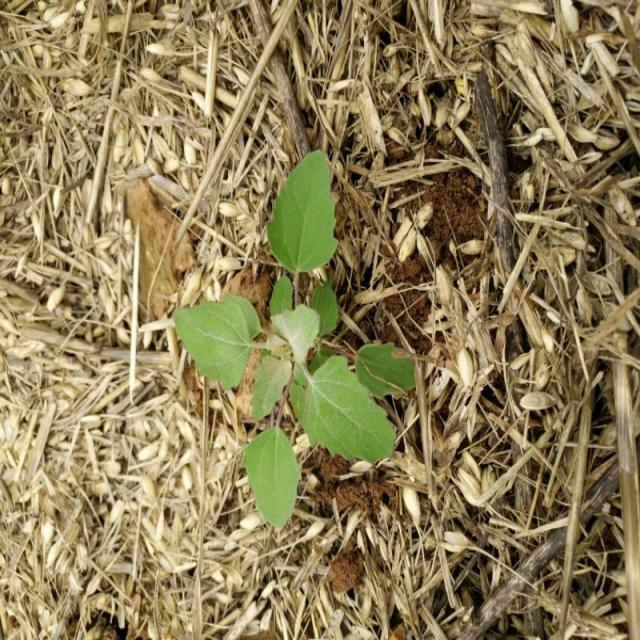ca: (176, 152, 416, 535)
